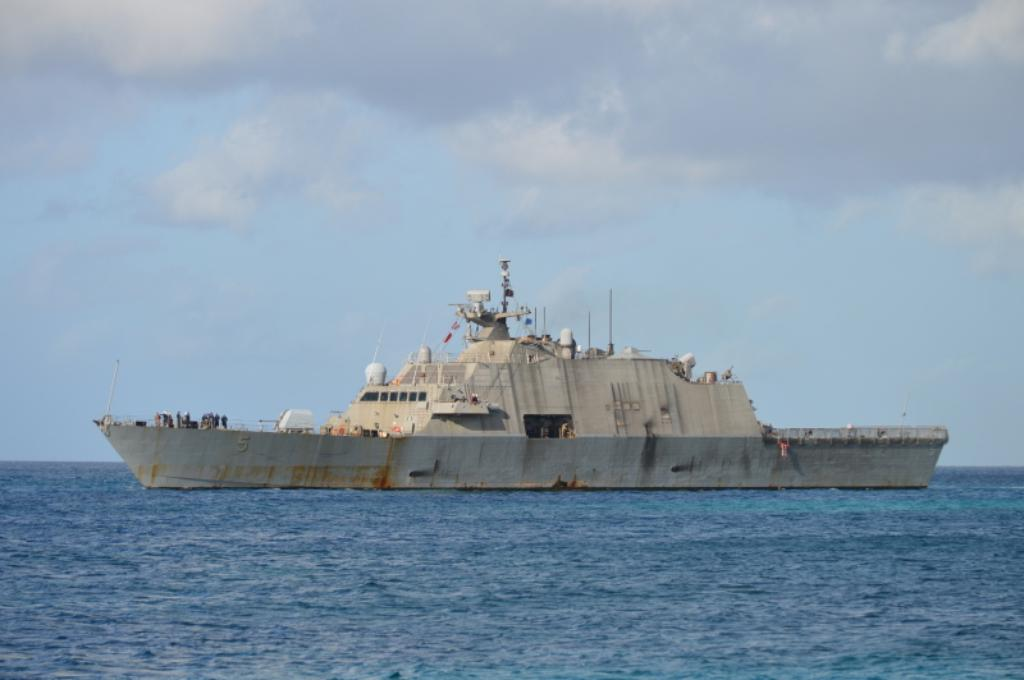Warship: (90, 255, 952, 495)
